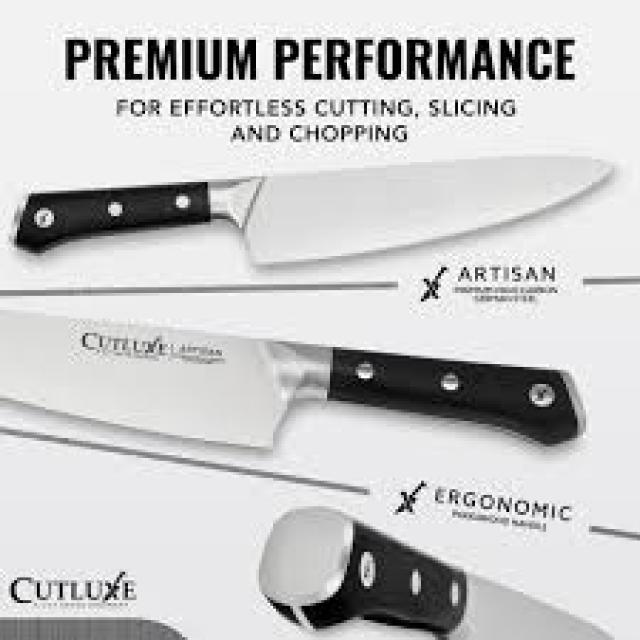Knife: (0, 298, 586, 449), (12, 150, 614, 264)
